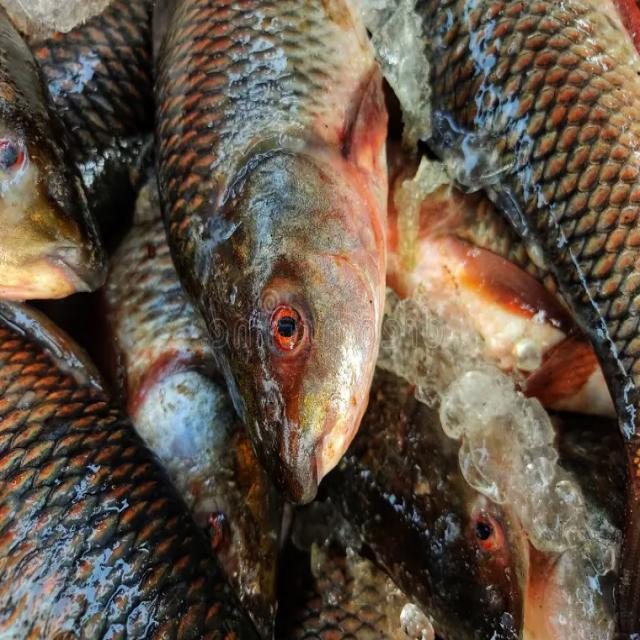Rohu: (152, 0, 388, 506)
